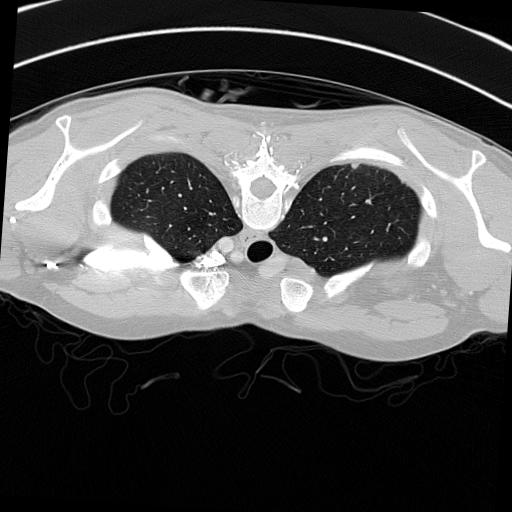nodule: (349, 160, 362, 173)
